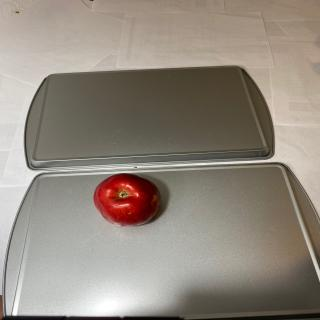Apple: (93, 173, 161, 226)
